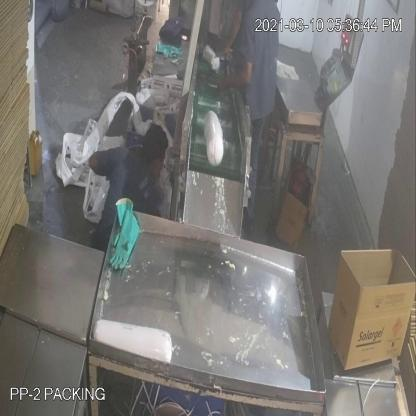no_glove: (210, 7, 248, 63), (214, 59, 255, 99)
